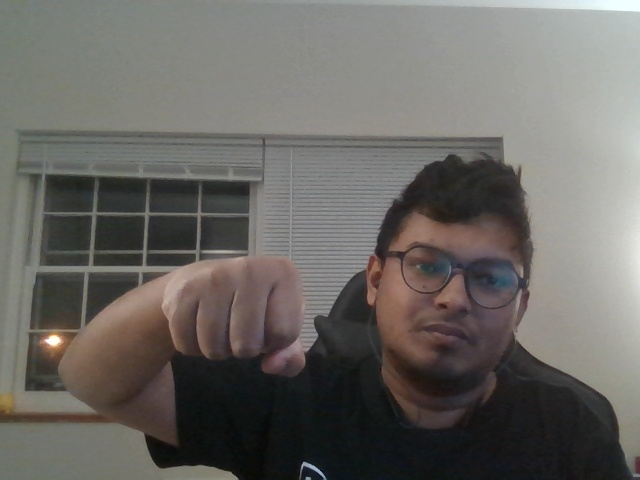yes: (129, 235, 329, 395)
